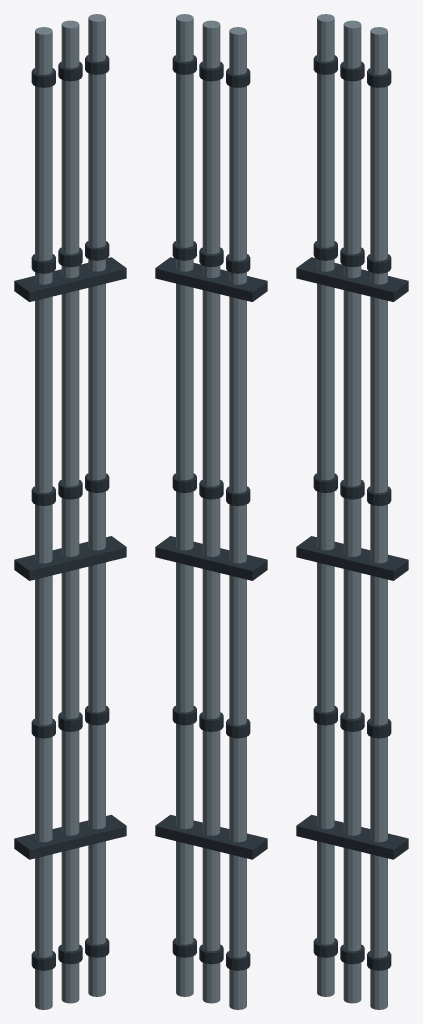
Rendered from SM_Lab_Conduit.fbx.
3 views of the same model, side by side, from view 1: azimuth 30°, elevation 25°; view 2: azimuth 150°, elevation 25°; view 3: azimuth 330°, elevation 25° (orthographic).
Parts seen in each view (by area): view 1: SM_Lab_Conduit; view 2: SM_Lab_Conduit; view 3: SM_Lab_Conduit.
Boxes of the visible parts, left/top/right/bottom form: SM_Lab_Conduit: left=14, top=14, right=126, bottom=1009; SM_Lab_Conduit: left=155, top=14, right=267, bottom=1009; SM_Lab_Conduit: left=296, top=14, right=408, bottom=1009.
Size of the model in its own units: 44 by 12 by 420.
